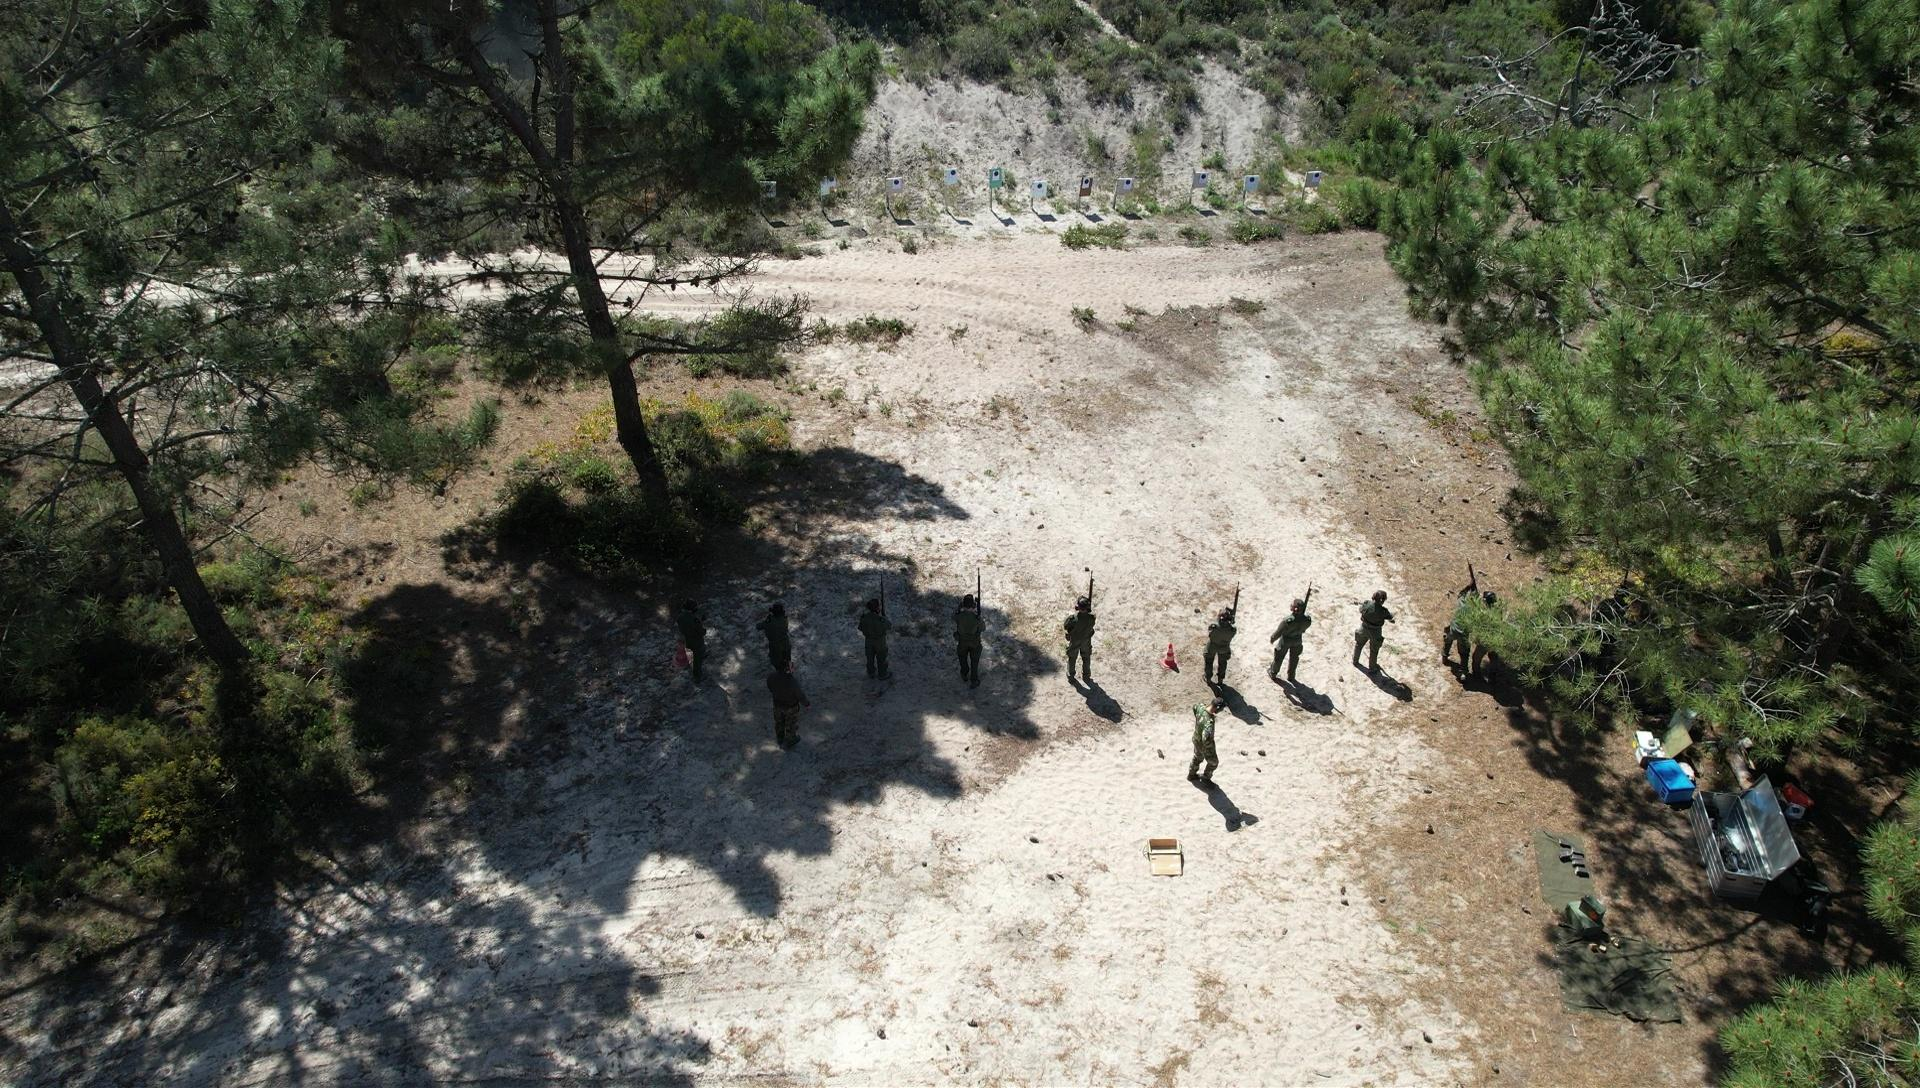Soldier: (939, 575, 1003, 715), (1182, 590, 1248, 725), (1262, 590, 1325, 710), (850, 582, 906, 707), (1054, 565, 1106, 695), (1179, 692, 1234, 810), (752, 661, 817, 760), (662, 593, 722, 687), (753, 604, 807, 692), (1354, 579, 1394, 674)
